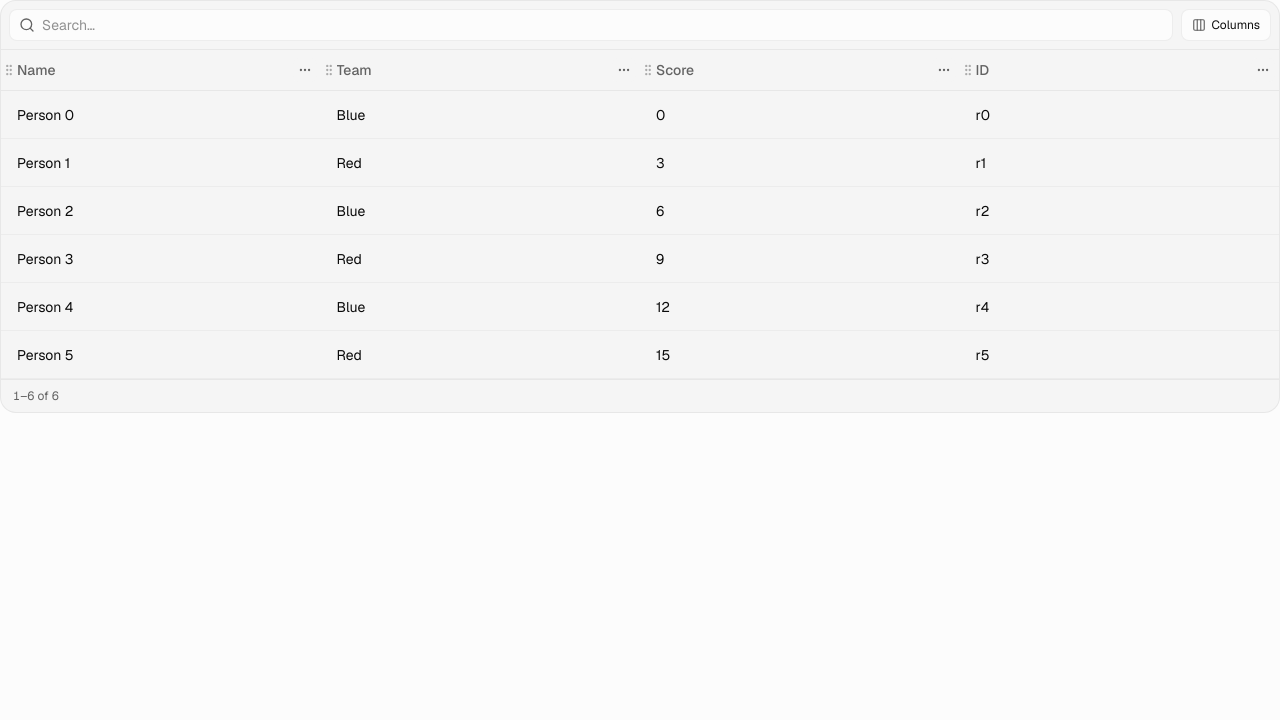
DataTable mobileLayout › narrow: filter chips open the column menu
The width and height of the screenshot is (1280, 720).
Click the button named "Team column options".
click(624, 70)  # box [612,58,636,82]
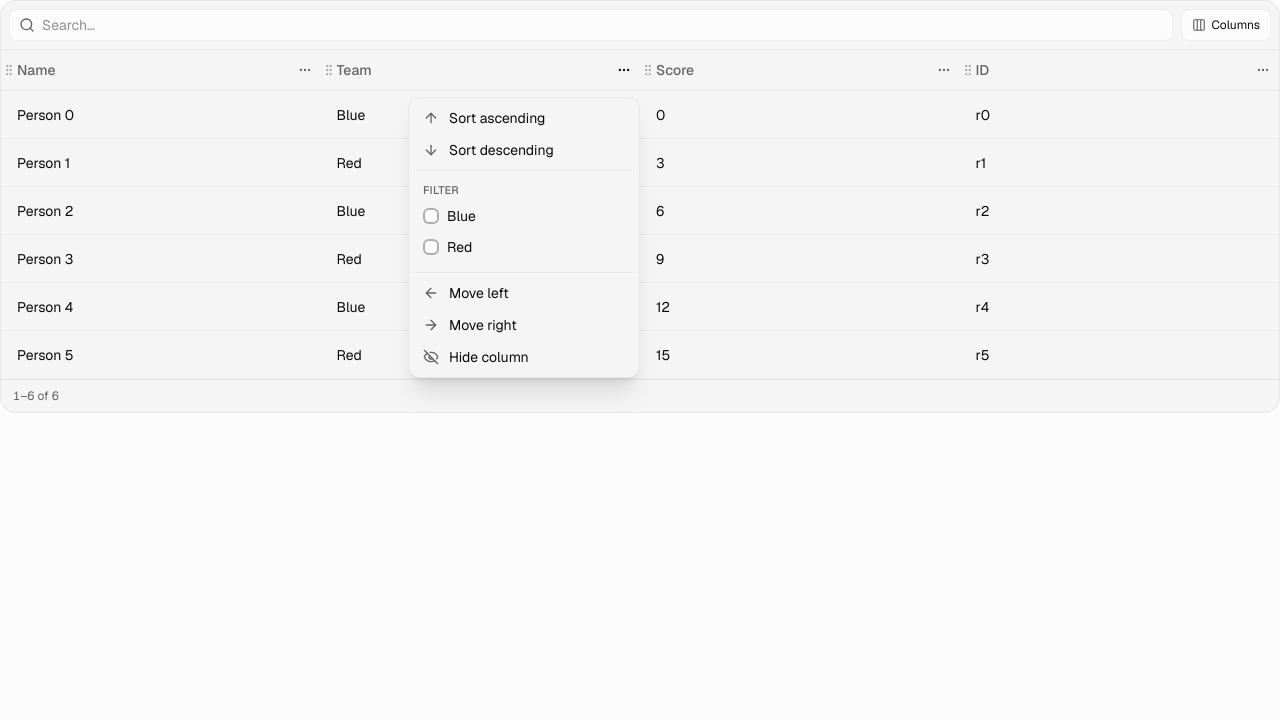
Expected: the button named "Team column options" is expanded, [612,58,636,82]
Expected: the text "Filter" is shown, [423,182,459,196]
